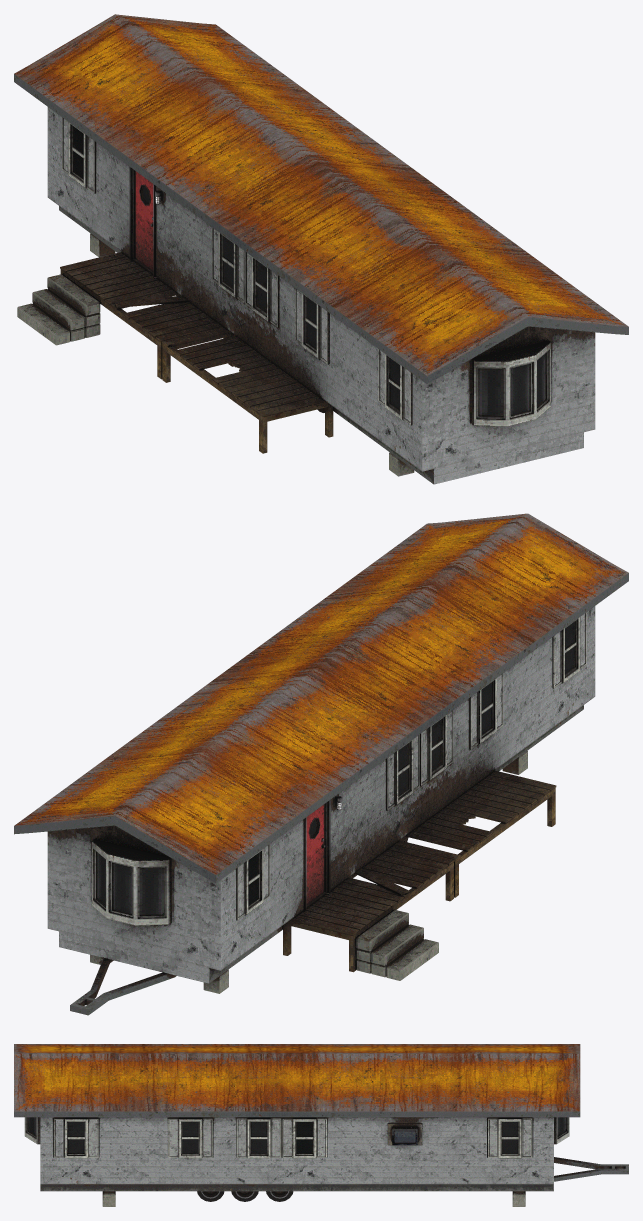
Rendered from lo-fi_single-wide_trailer_psx.glb.
The picture shows the model from 3 angles, top to bottom: view 1: azimuth 30°, elevation 25°; view 2: azimuth 150°, elevation 25°; view 3: azimuth 270°, elevation 25°; orthographic projection. The views are drawn at different scales.
Parts seen in each view (by area): view 1: Object_2, Object_3; view 2: Object_2, Object_3; view 3: Object_2, Object_3.
Part boxes in pixels (x1=…): Object_2: x1=14, y1=14, x2=628, y2=484; Object_3: x1=60, y1=189, x2=414, y2=476; Object_2: x1=14, y1=513, x2=628, y2=1015; Object_3: x1=90, y1=751, x2=556, y2=993; Object_2: x1=14, y1=1044, x2=628, y2=1201; Object_3: x1=102, y1=1191, x2=525, y2=1206.
Size of the model in its own units: 203 by 127 by 539.
Materials: 1 (1 with a texture image).
